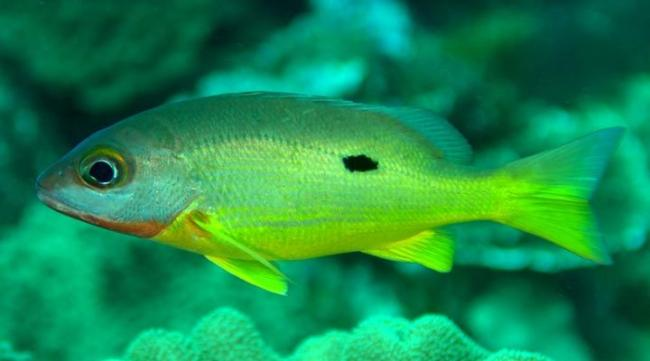fish: (35, 91, 627, 298)
